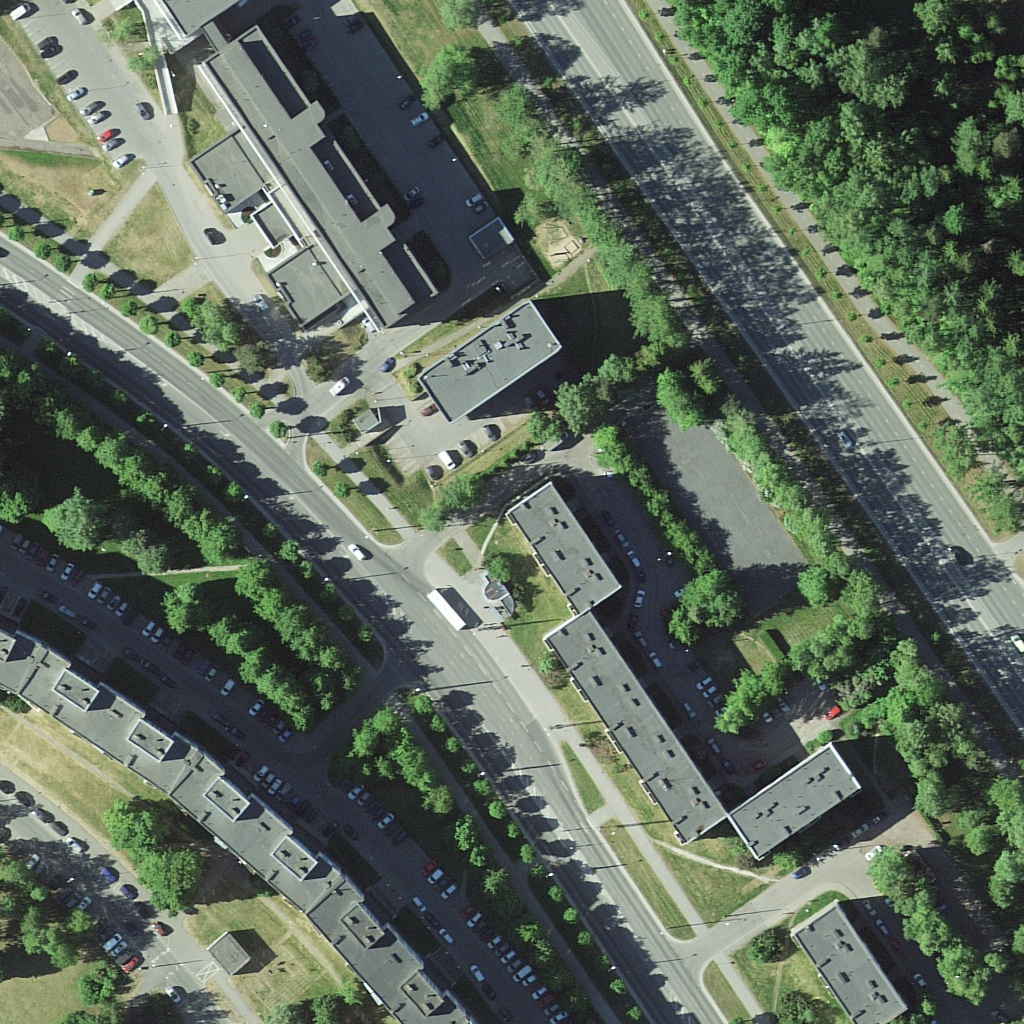building: (207, 25, 436, 330), (544, 613, 728, 848), (184, 752, 348, 910), (31, 646, 196, 798), (315, 882, 465, 1024), (415, 302, 571, 426), (794, 893, 915, 1024), (507, 481, 623, 617), (724, 748, 861, 861)
